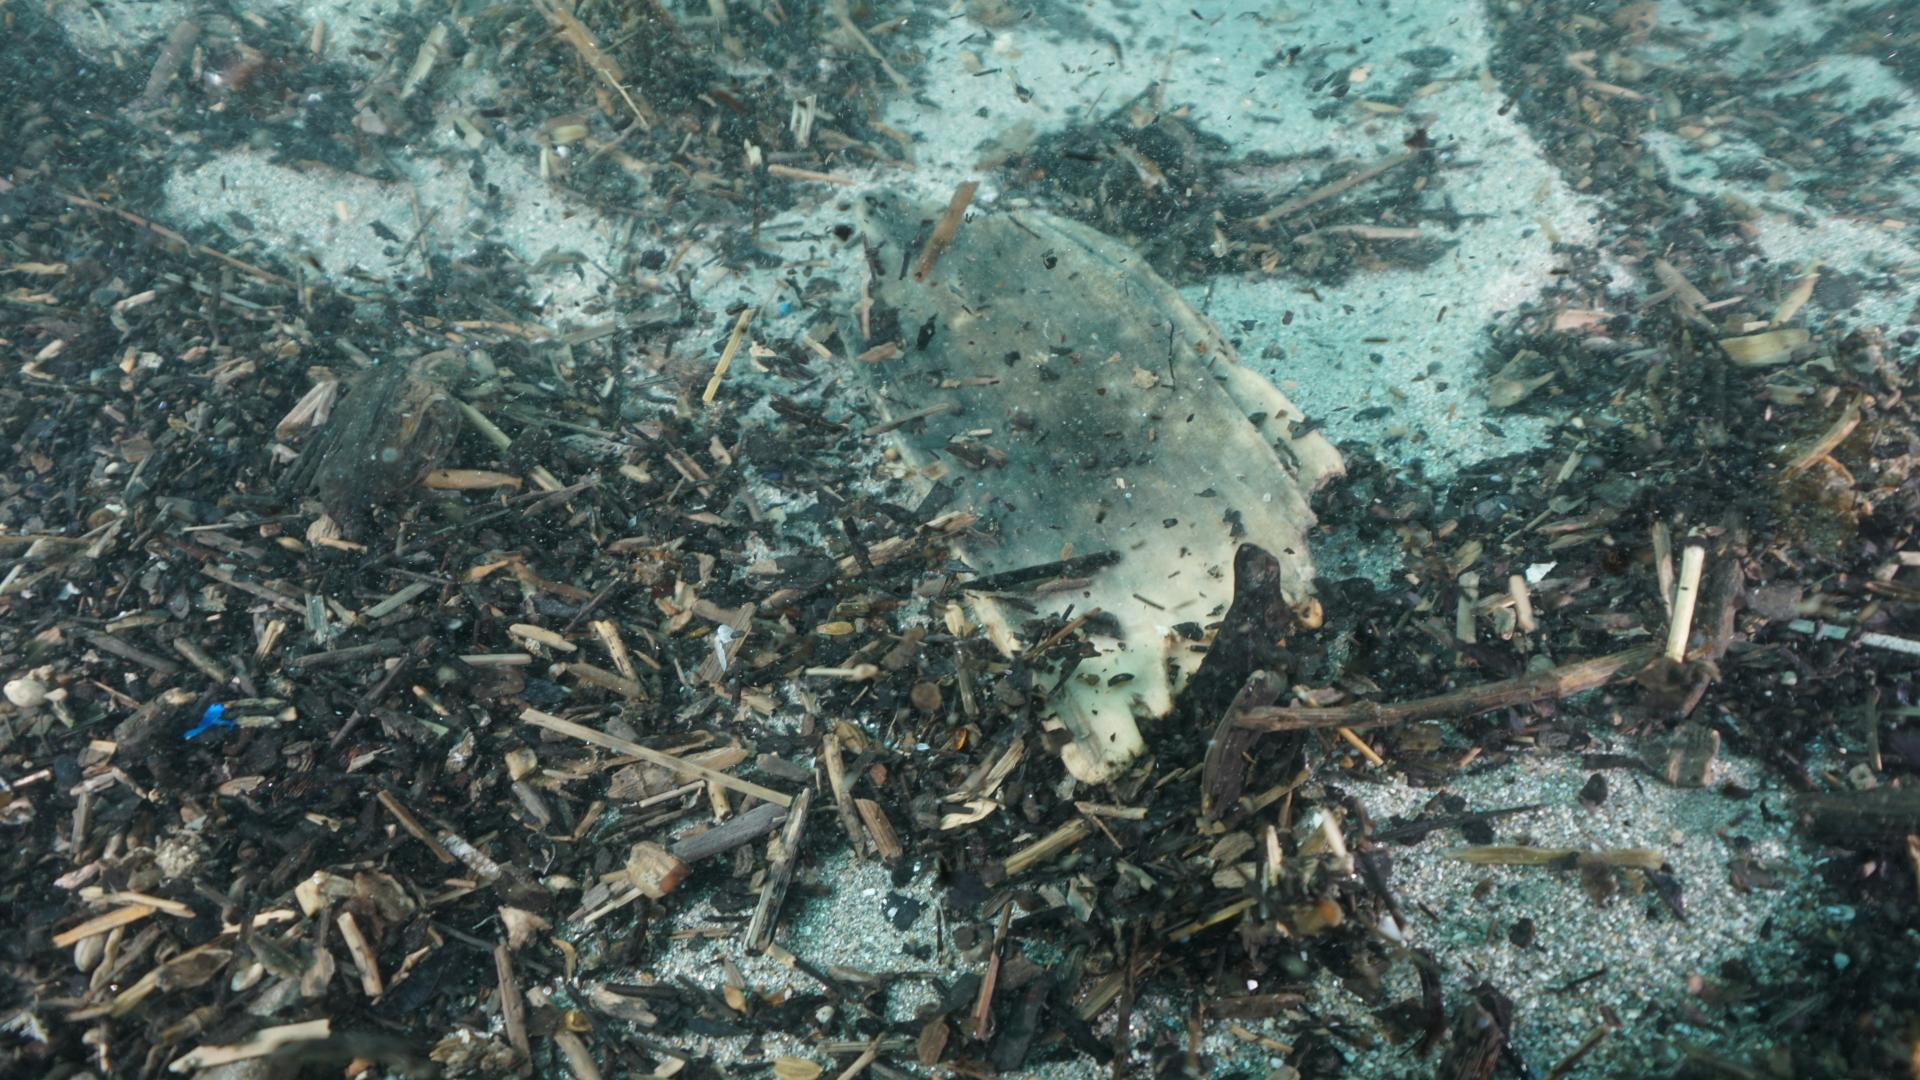wood: (837, 185, 1342, 790)
